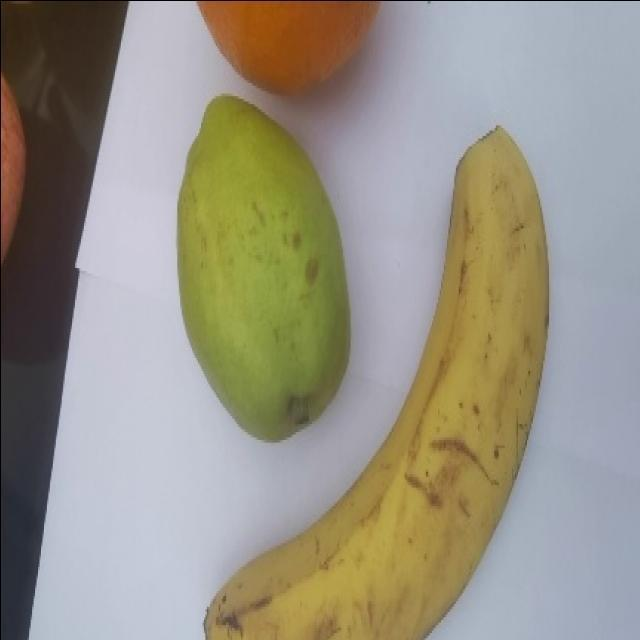Banana: (202, 123, 550, 638)
Orange: (196, 0, 380, 96)
